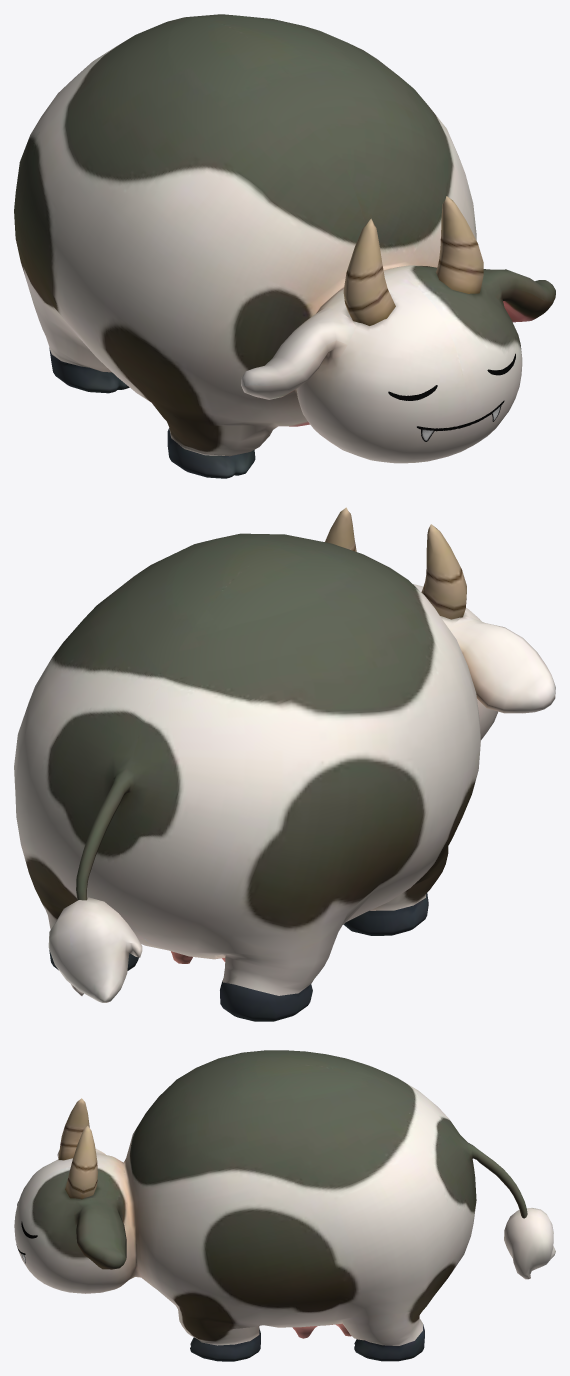
File: cowpal_859148.glb
3 views of the same model, one above another, from view 1: azimuth 30°, elevation 25°; view 2: azimuth 150°, elevation 25°; view 3: azimuth 270°, elevation 25° (orthographic). The views are drawn at different scales.
Bounding box in the file's own units: 1.89 × 1.83 × 3.41.
Materials: 3 (3 with a texture image).
